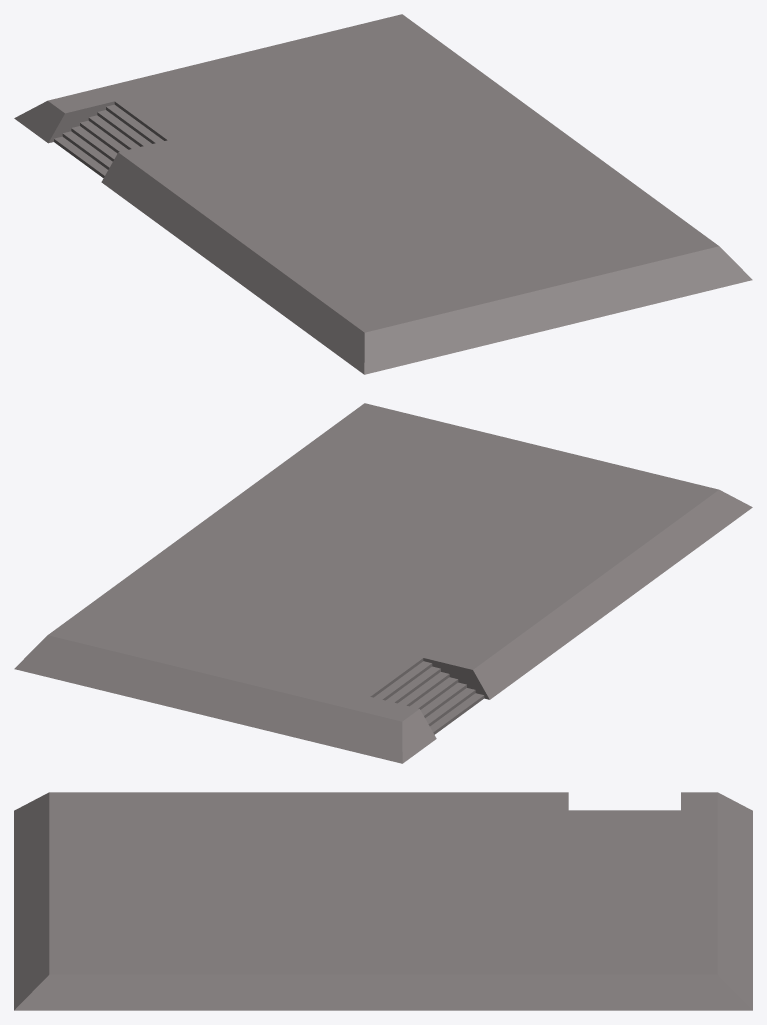
File: fbx_CVS_floor.fbx
The picture shows the model from 3 angles, top to bottom: view 1: azimuth 30°, elevation 25°; view 2: azimuth 150°, elevation 25°; view 3: azimuth 270°, elevation 25°; orthographic projection. The views are drawn at different scales.
Visible parts, largest first — view 1: fbx_CVS_floor; view 2: fbx_CVS_floor; view 3: fbx_CVS_floor.
Part boxes in pixels (box(x1,y1,x2,y2)): fbx_CVS_floor: box(14, 14, 752, 374); fbx_CVS_floor: box(14, 403, 752, 763); fbx_CVS_floor: box(14, 792, 752, 1010).
Size of the model in its own units: 10.62 by 0.6738 by 16.6.
1 material, 1 textured.
